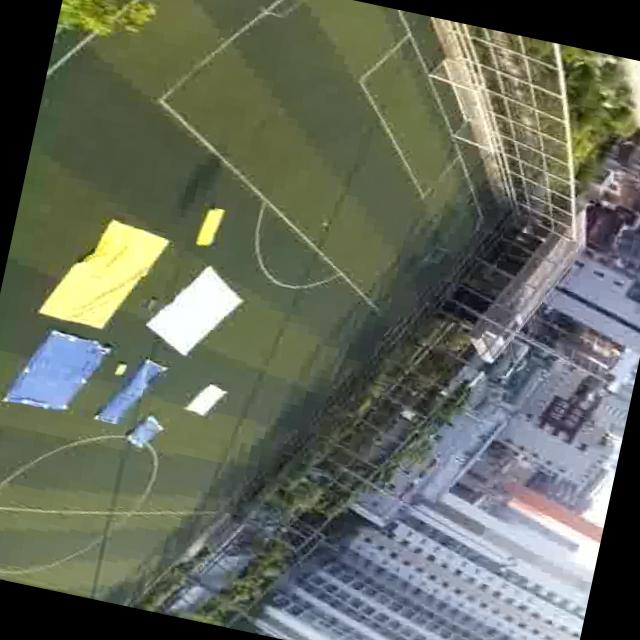danger: (0, 321, 101, 419), (124, 352, 170, 406), (123, 410, 169, 454)
safety: (141, 248, 260, 368), (177, 372, 234, 424)
warning: (33, 199, 164, 341), (188, 202, 236, 254)
